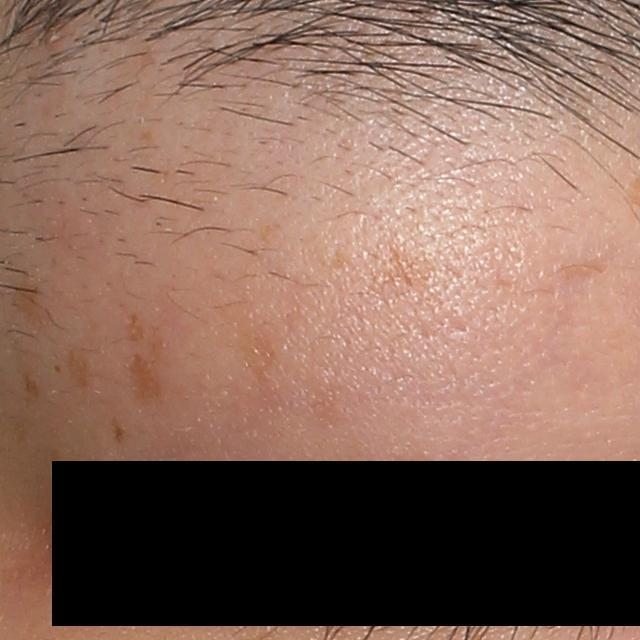melasma: (359, 243, 436, 297), (8, 269, 54, 331), (235, 322, 277, 385), (121, 312, 166, 359), (127, 352, 162, 408), (67, 344, 100, 395), (23, 366, 41, 400), (108, 415, 126, 446)
